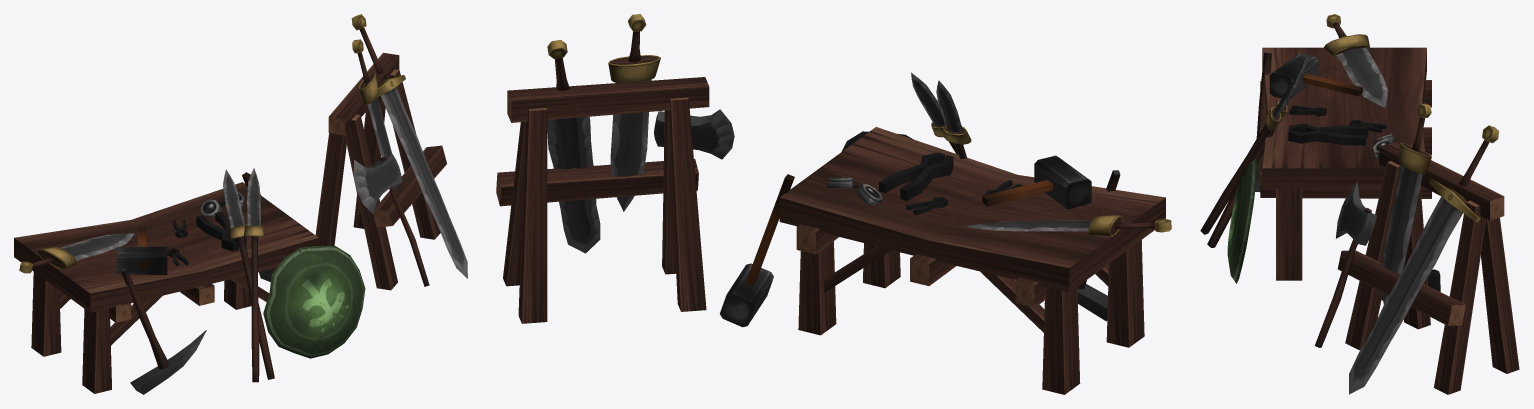
Rendered from TableTools.FBX.
3 views of the same model, side by side, from view 1: azimuth 30°, elevation 25°; view 2: azimuth 150°, elevation 25°; view 3: azimuth 270°, elevation 25° (orthographic). The views are drawn at different scales.
Visible parts, largest first — view 1: Box011, Box013, Box009; view 2: Box011, Box013, Box009; view 3: Box011, Box013, Box009.
Part boxes in pixels (left/top/right/bottom): Box011: left=14, top=52, right=446, bottom=393; Box013: left=19, top=14, right=467, bottom=394; Box009: left=116, top=172, right=274, bottom=281; Box011: left=496, top=77, right=1165, bottom=394; Box013: left=547, top=14, right=1171, bottom=321; Box009: left=720, top=152, right=1091, bottom=327; Box011: left=1260, top=47, right=1519, bottom=394; Box013: left=1200, top=14, right=1499, bottom=394; Box009: left=1269, top=53, right=1440, bottom=300.
Bounding box in the file's own units: 119 × 54.85 × 63.31.
